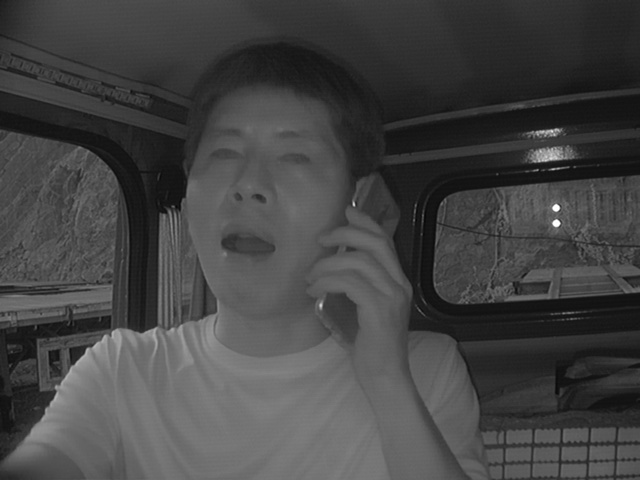hand: (307, 206, 422, 380)
